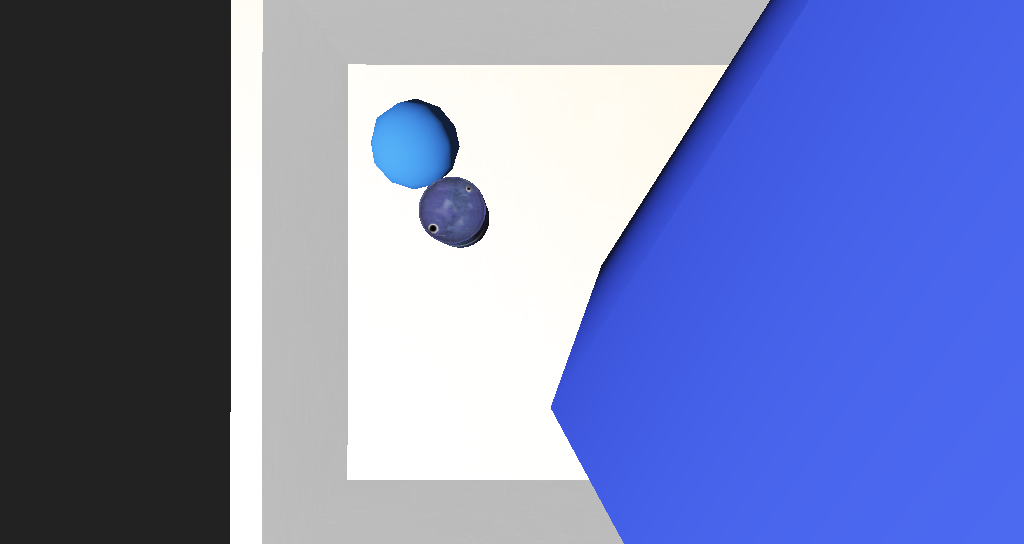cone: (404, 222, 458, 255)
cylinder: (384, 81, 627, 320)
sphere: (371, 184, 438, 227)
